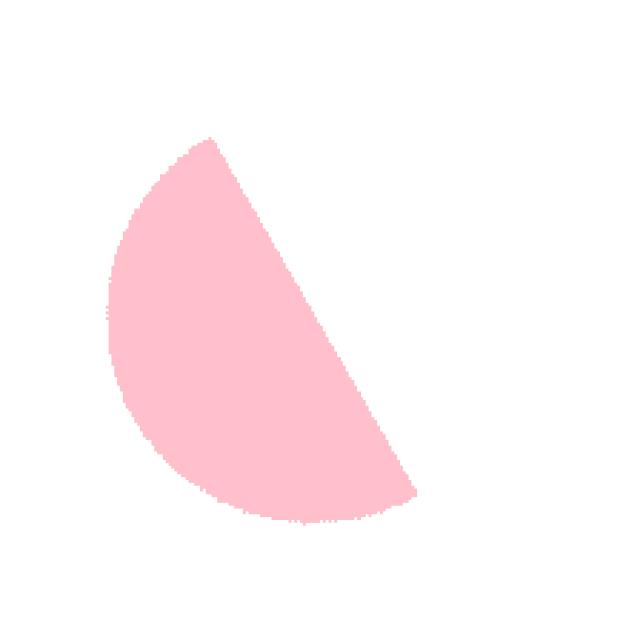Semicircle: (34, 124, 464, 602)
